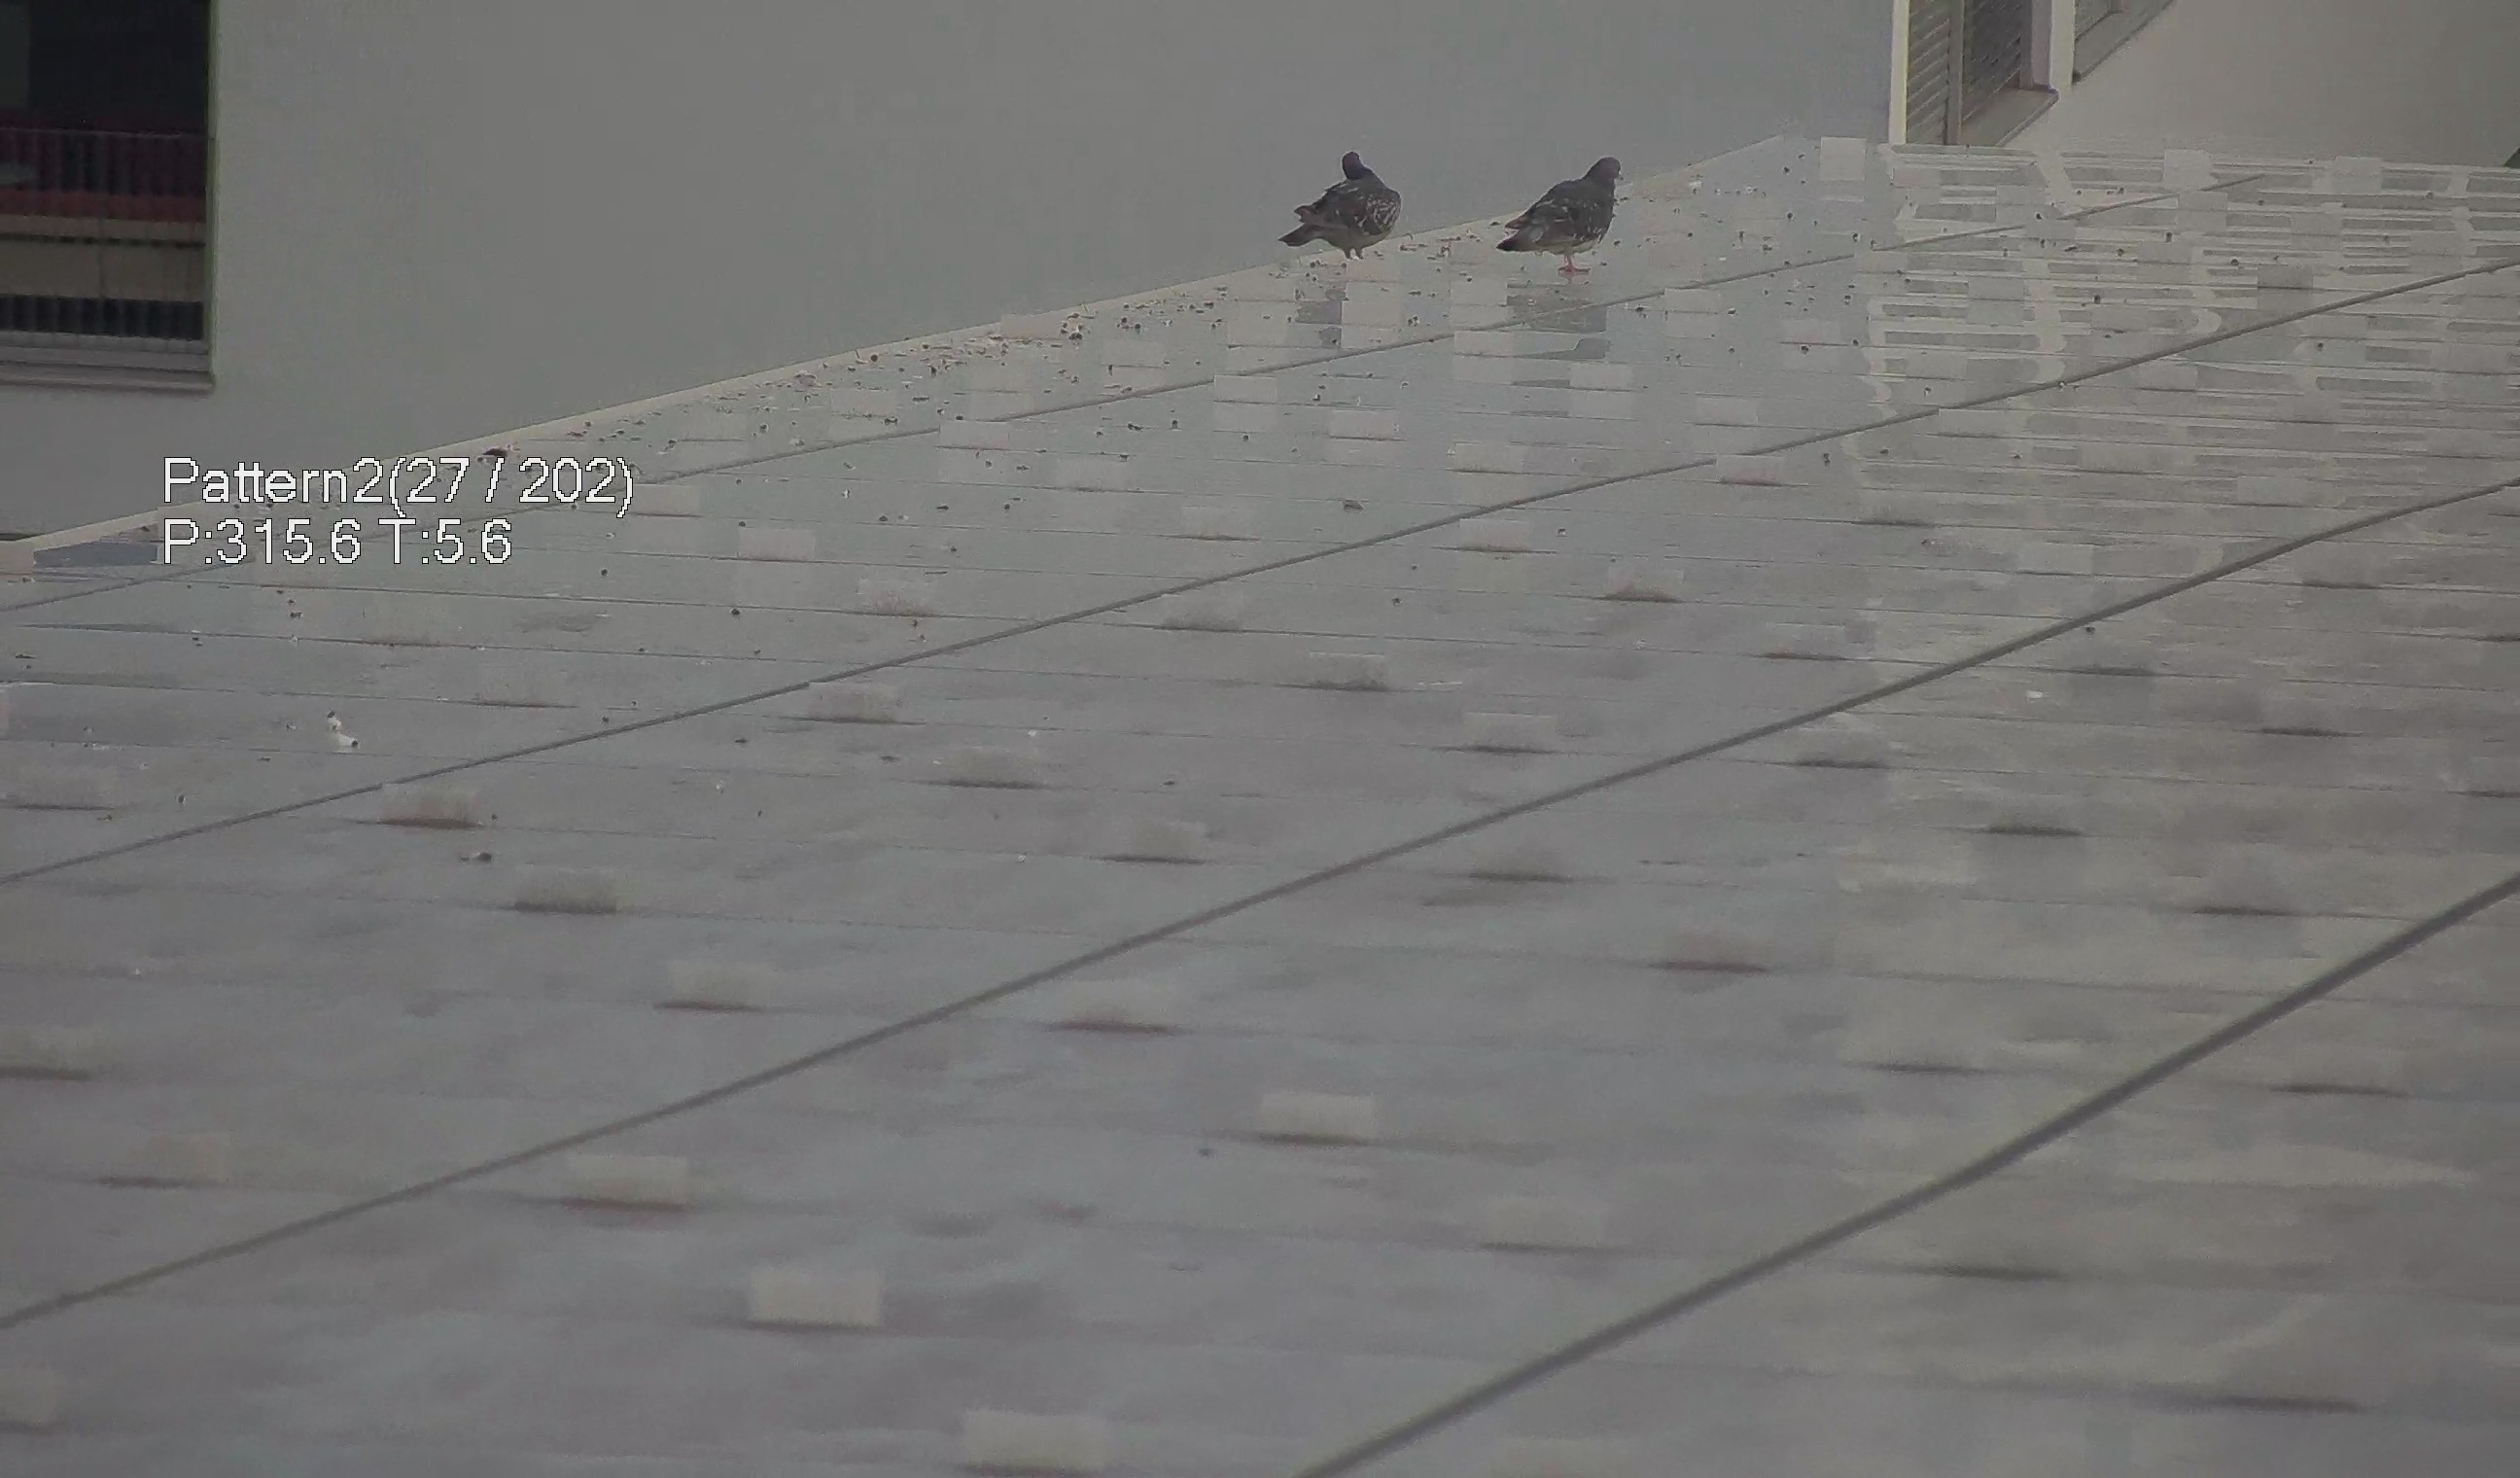Pigeon: (1497, 143, 1639, 264), (1282, 135, 1414, 264)
